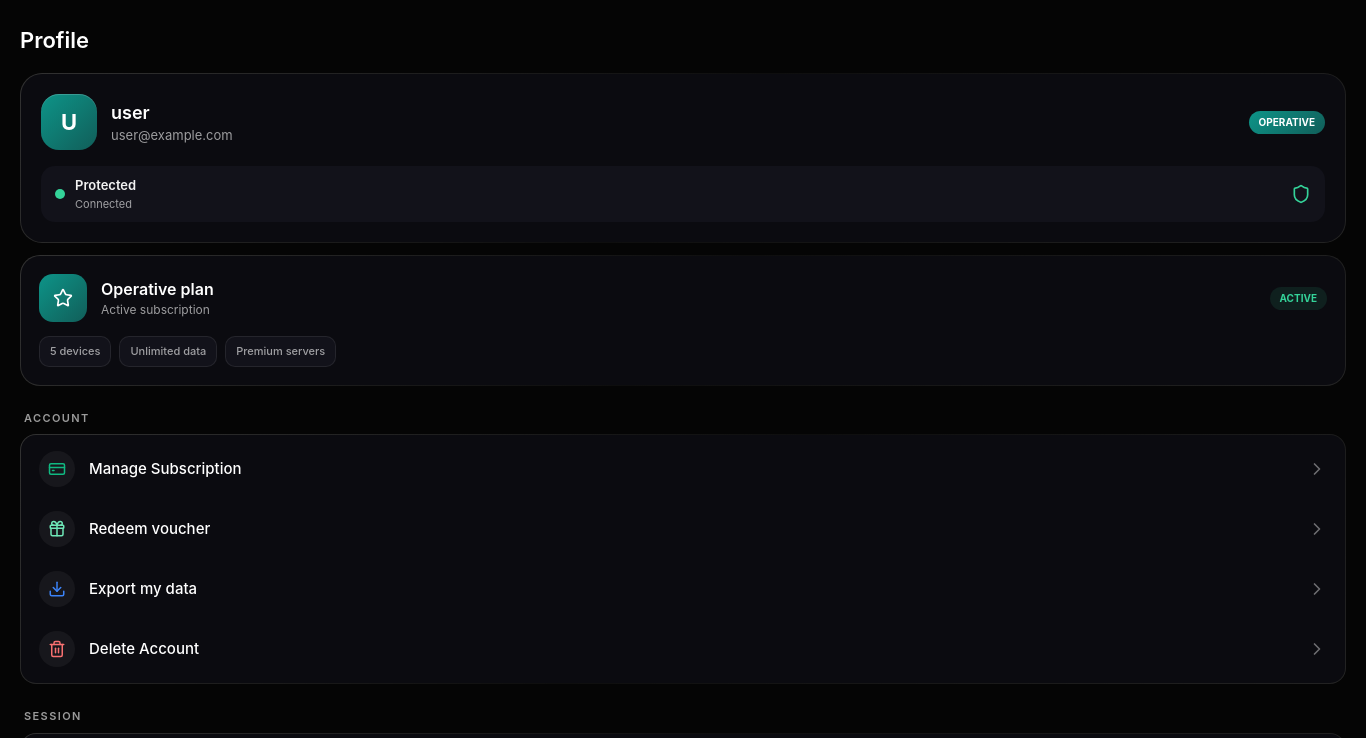
Test: Delete account dialog › a refused deletion leaves the VPN connected
Click the button "Delete Account".
click(57, 649)  # box [25,619,1341,679]
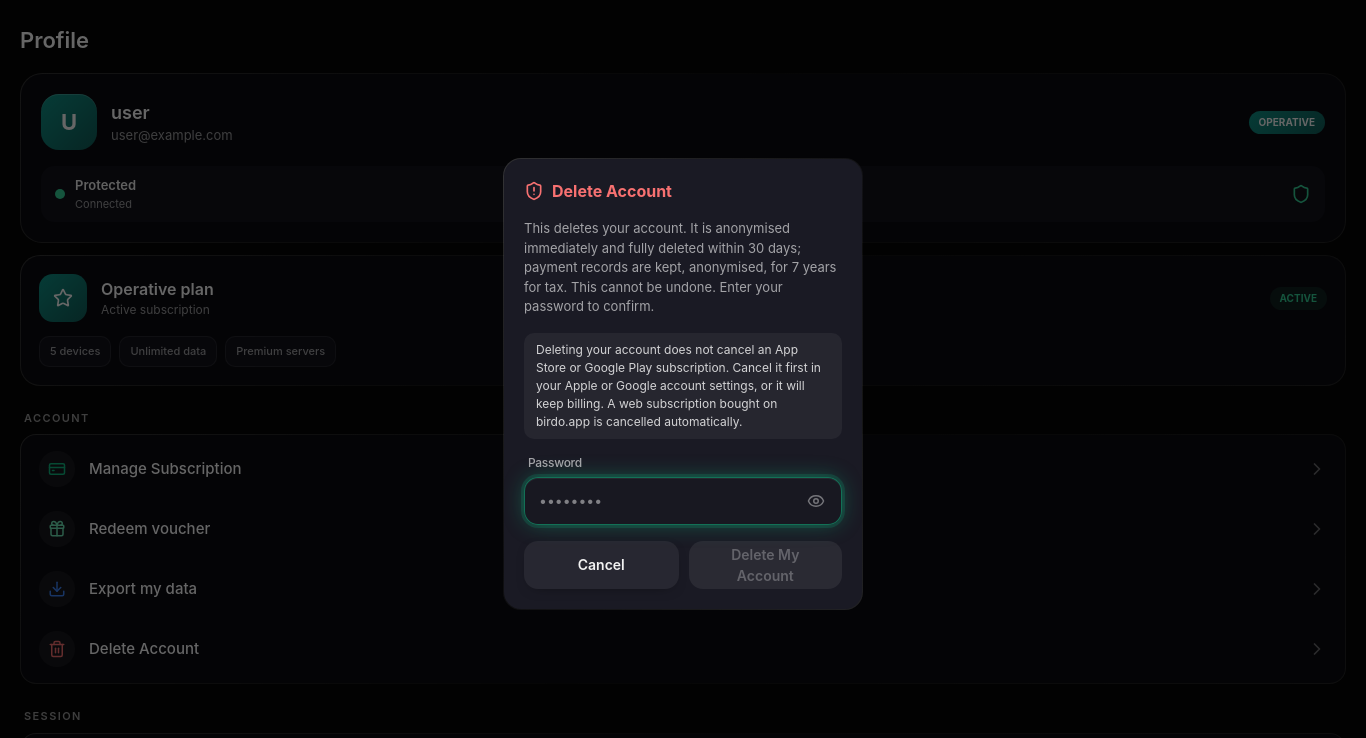
Type "hunter2" into the password field with placeholder "••••••••".
click(667, 501); type("hunter2")  # box [539,491,795,511]
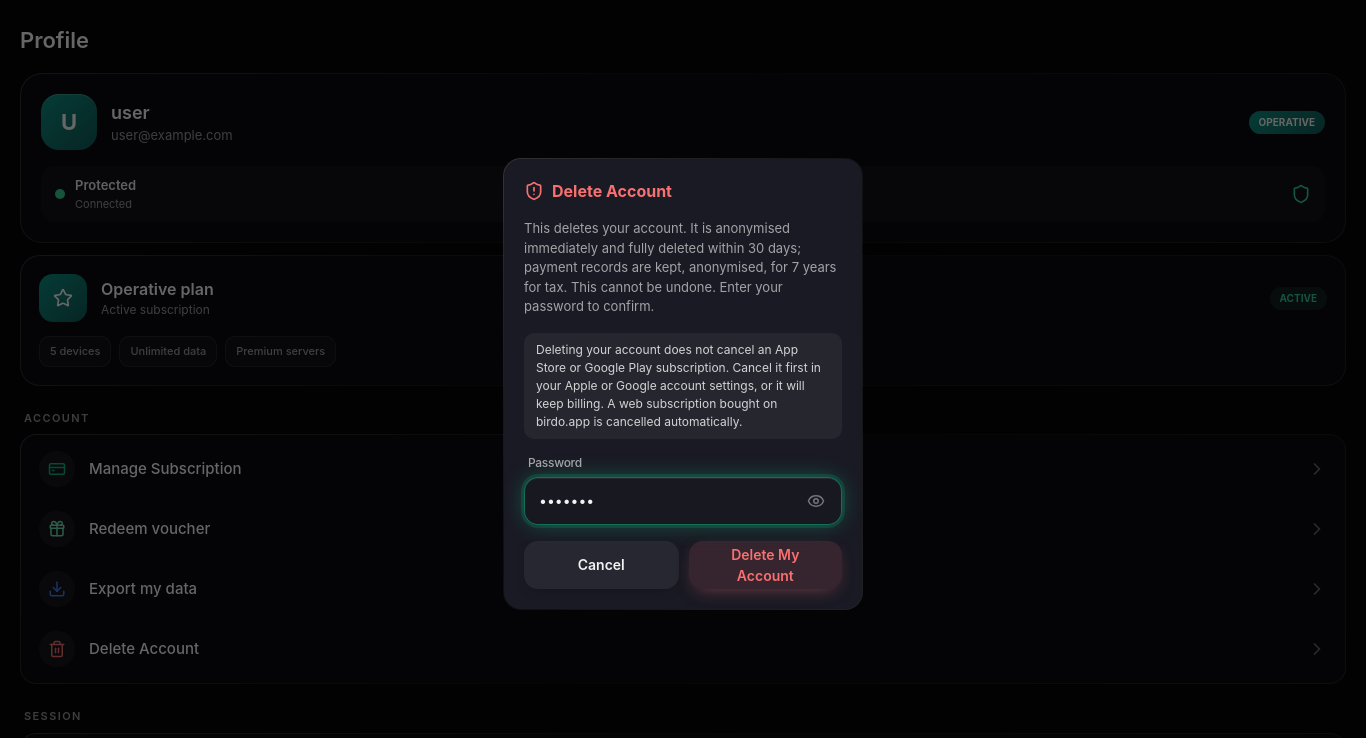
Click the button "Delete My Account".
click(765, 565)  # box [689,541,842,589]
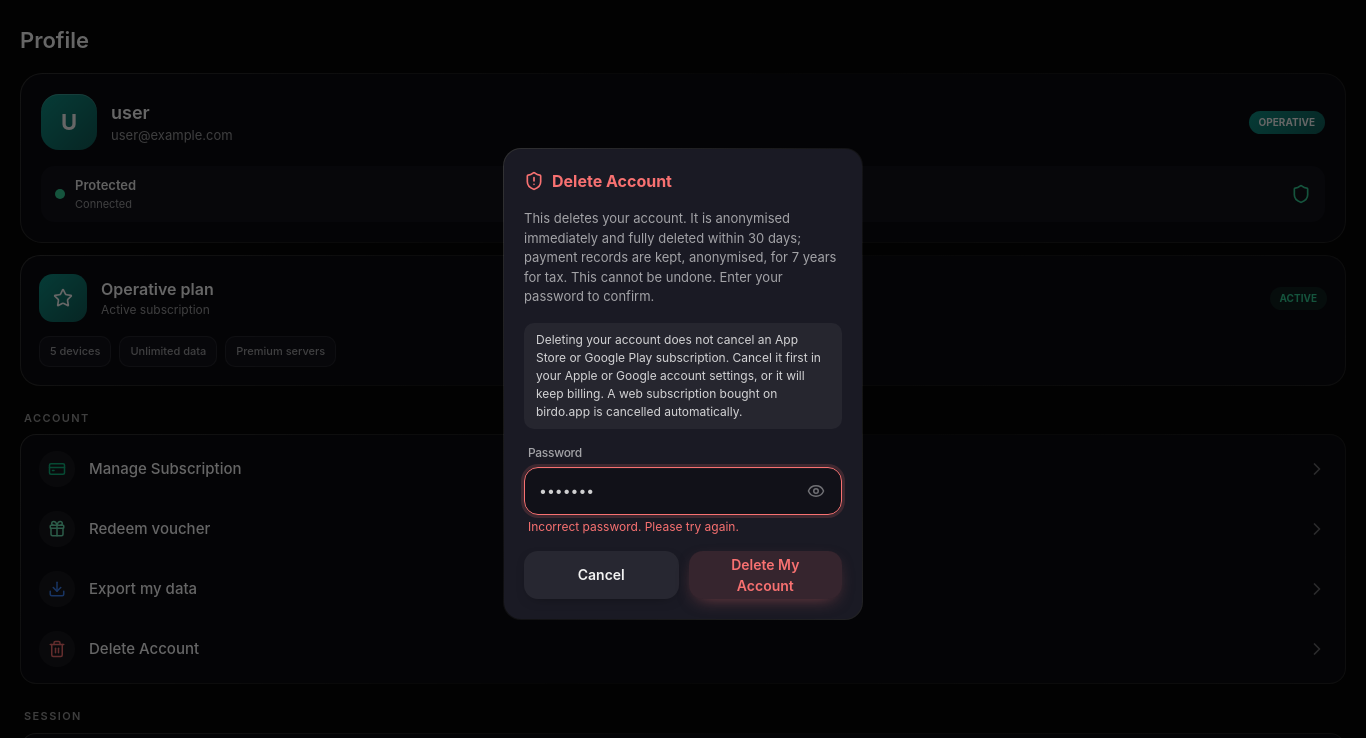
Now the text "Incorrect password. Please try again." is shown, box [528,519,739,534]
